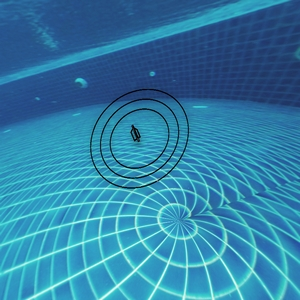submarine: (126, 122, 144, 141)
